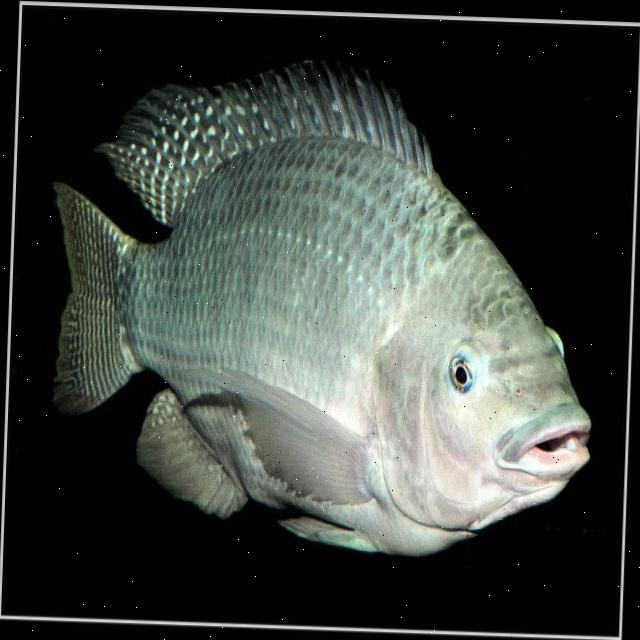ikan: (38, 47, 605, 564)
